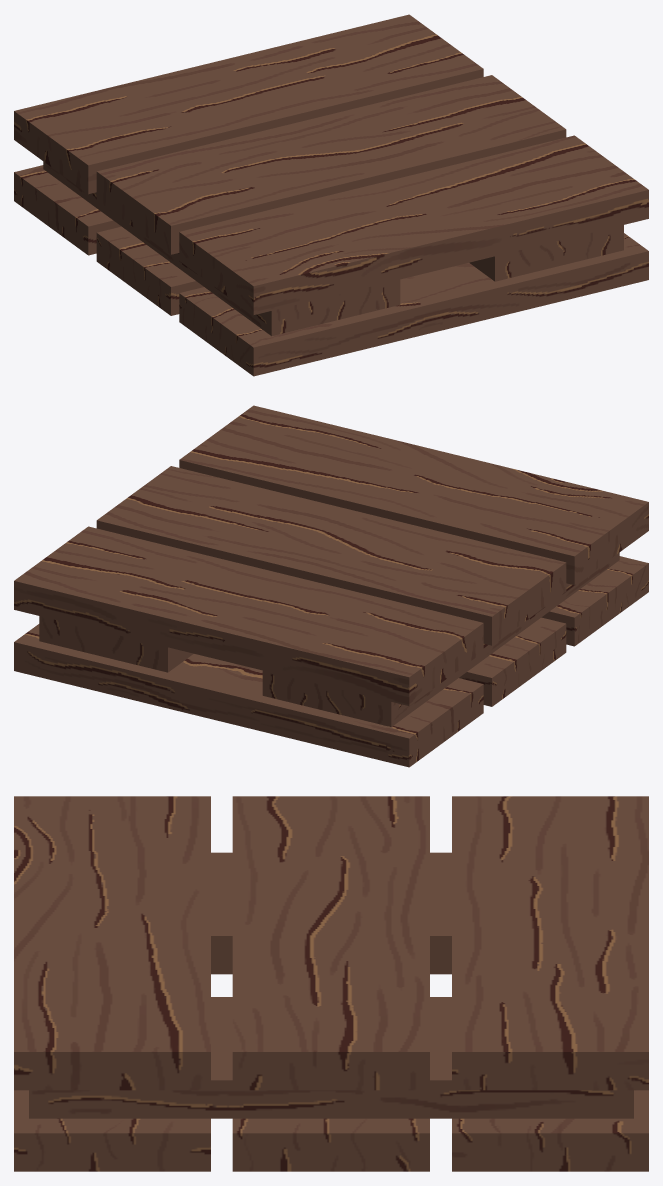
Rendered from pallet_1.fbx.
The picture shows the model from 3 angles, top to bottom: view 1: azimuth 30°, elevation 25°; view 2: azimuth 150°, elevation 25°; view 3: azimuth 270°, elevation 25°; orthographic projection. The views are drawn at different scales.
Visible parts, largest first — view 1: pallet_1; view 2: pallet_1; view 3: pallet_1.
Part boxes in pixels (box(x1,y1,x2,y2)): pallet_1: box(14, 14, 648, 376); pallet_1: box(14, 405, 648, 767); pallet_1: box(14, 796, 648, 1171).
Bounding box in the file's own units: 381 × 83.08 × 400.
